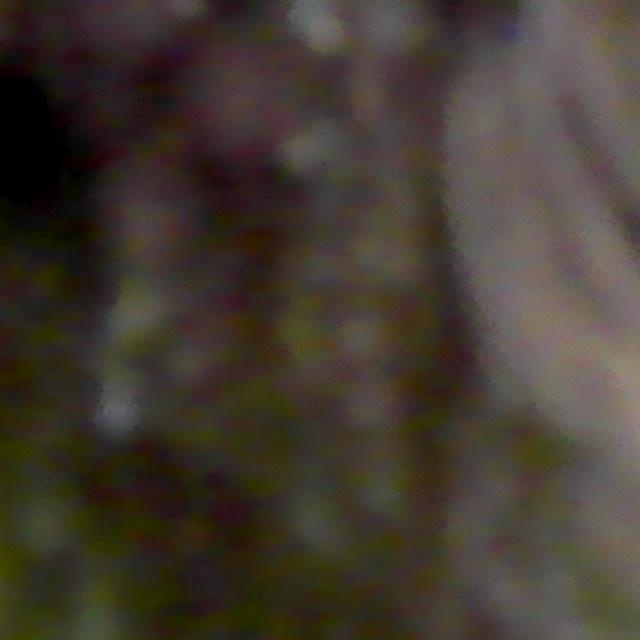SeaGrape: (14, 488, 90, 561), (344, 374, 408, 436), (337, 310, 397, 367)
